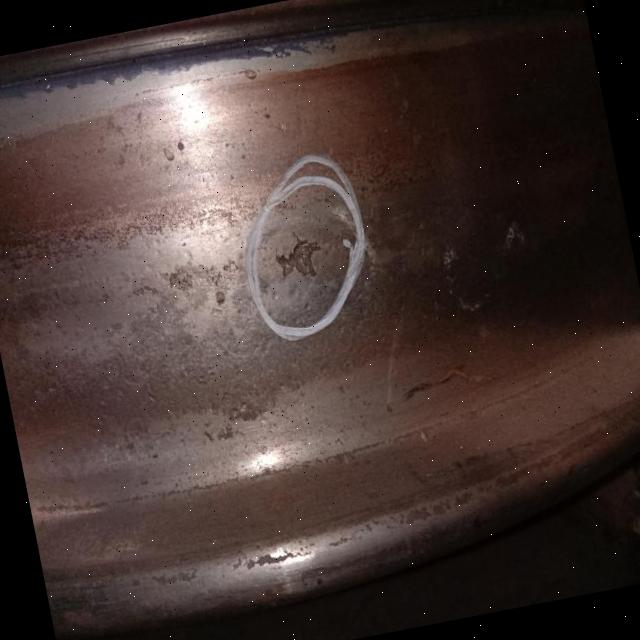Blue hole: (272, 228, 329, 286)
